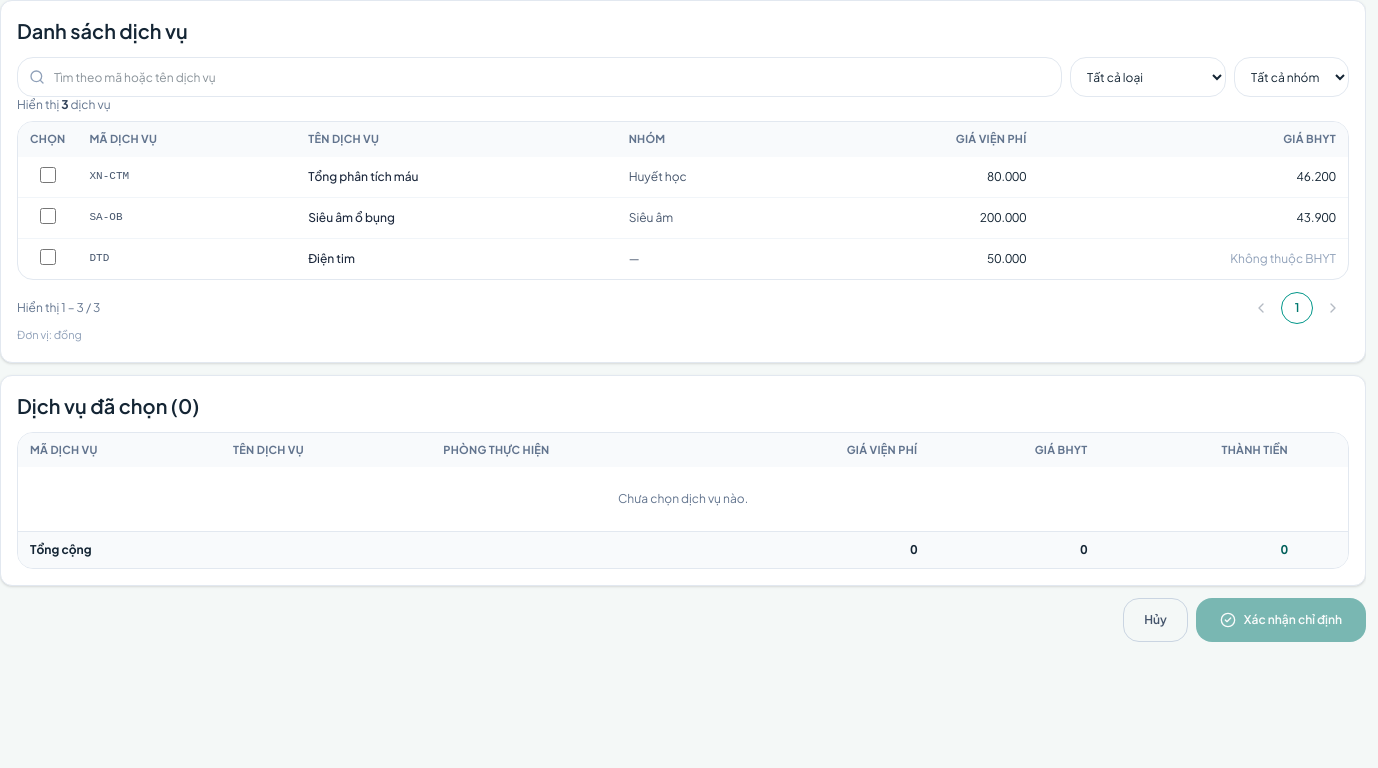
Scenario: ParaclinicalOrderPanel (UC-49) › assigns no room to a self-paid visit until the payment (BR-50-02)
The width and height of the screenshot is (1378, 768).
Click the checkbox named "Chọn Siêu âm ổ bụng" at [48, 216], box [40, 208, 56, 224]
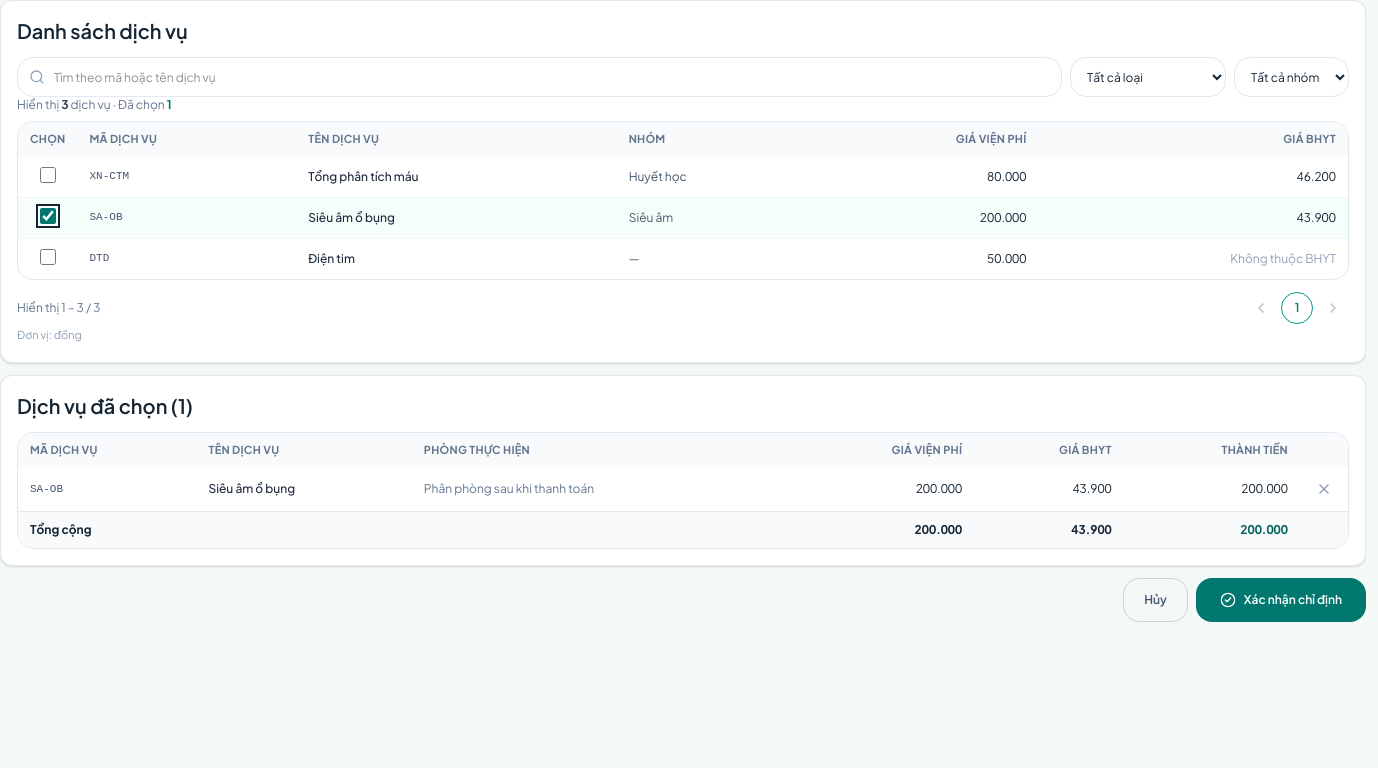
Expected: the text "Phân phòng sau khi thanh toán" is shown, [424, 481, 594, 496]
